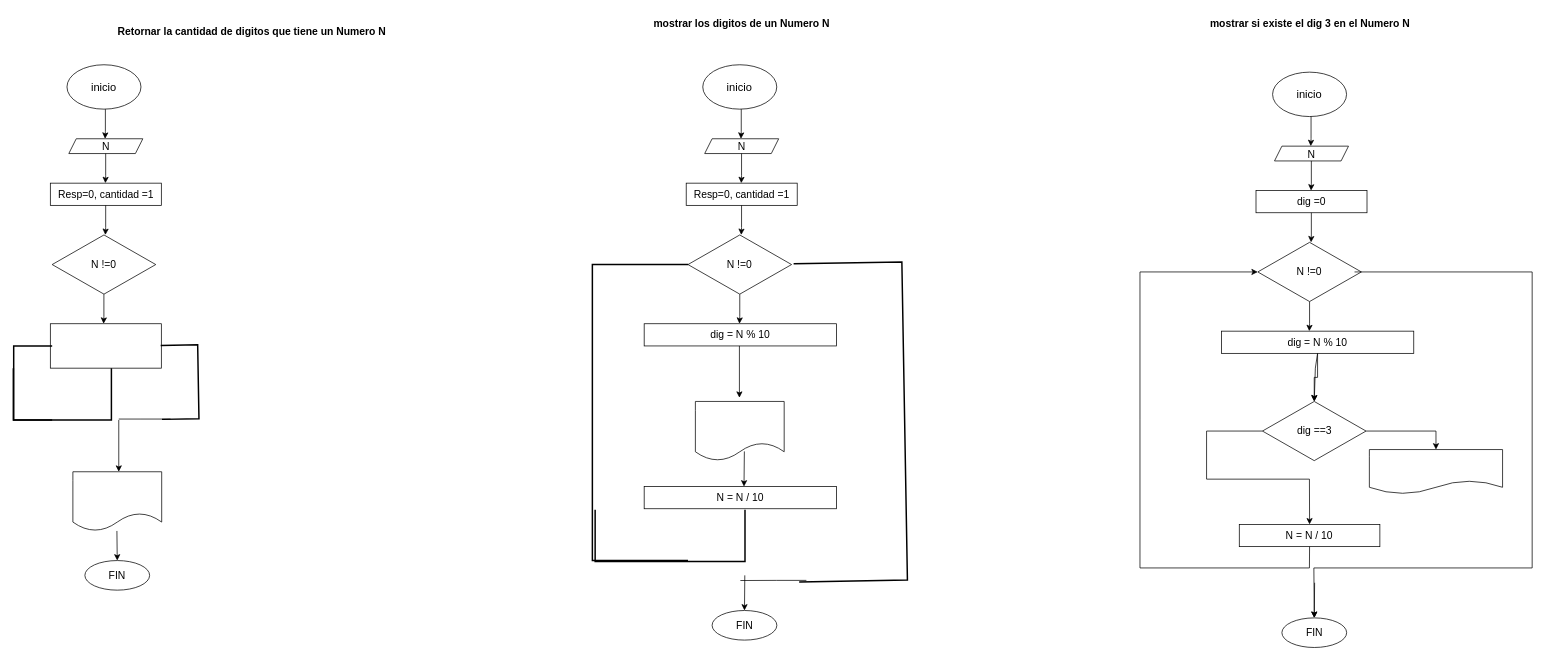
Some shapes in this 1551 by 660 pixel diagram are drawn without their labels. The shapes that lost their labels are listed below. From the top down, each one's centre as x and y in pixels, then its label:
point (105, 345): N=N/10 cantidad=cantidad + 1
point (739, 431): dig
point (1436, 471): Existe el dig de 3
point (117, 501): cantidad = "digitos"
